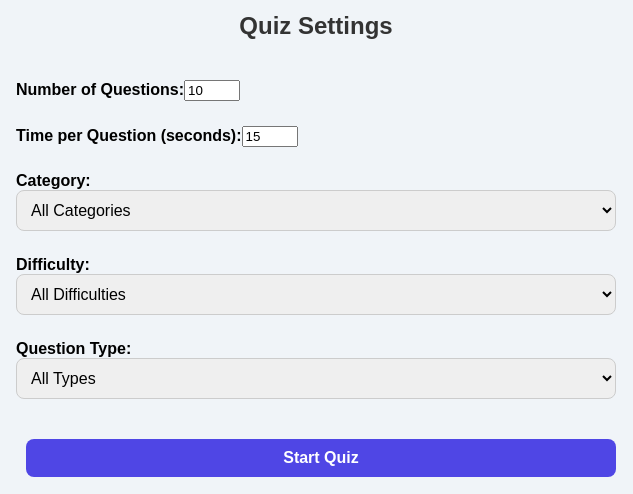
Test: Settings › clamps "Number of Questions" to the 50 maximum
The image size is (633, 494).
Replace the text in the number field labelled "Number of Questions:" with "999" at (212,90), box 184,80 -> 240,101
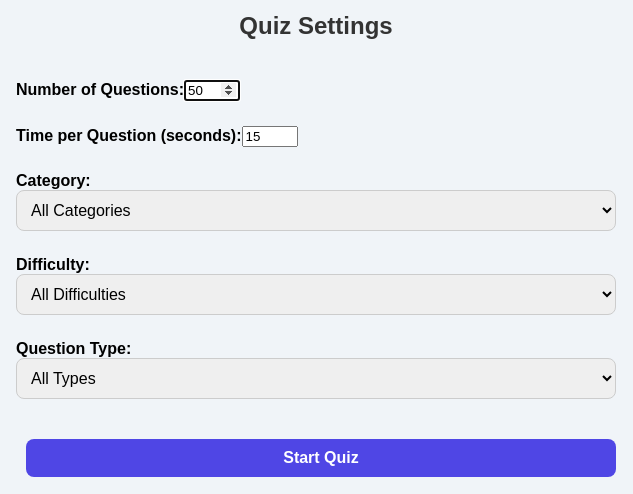
Now the number field labelled "Number of Questions:" holds "50", box 184,80 -> 240,101
